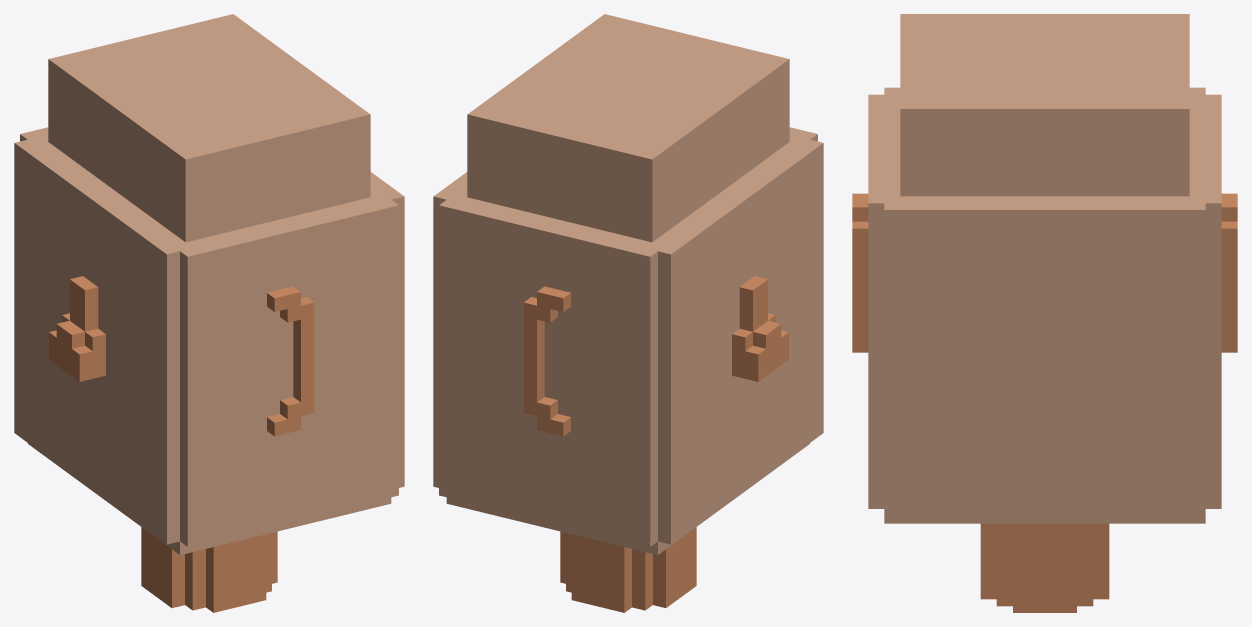
Rendered from head_human.obj.
3 views of the same model, side by side, from view 1: azimuth 30°, elevation 25°; view 2: azimuth 150°, elevation 25°; view 3: azimuth 270°, elevation 25° (orthographic). The views are drawn at different scales.
Visible parts, largest first — view 1: head_human_box; view 2: head_human_box; view 3: head_human_box.
Boxes of the visible parts, <box> form: head_human_box: <box>14,14,404,612</box>; head_human_box: <box>433,14,823,612</box>; head_human_box: <box>852,14,1237,612</box>.
Size of the model in its own units: 20 by 36 by 24.
